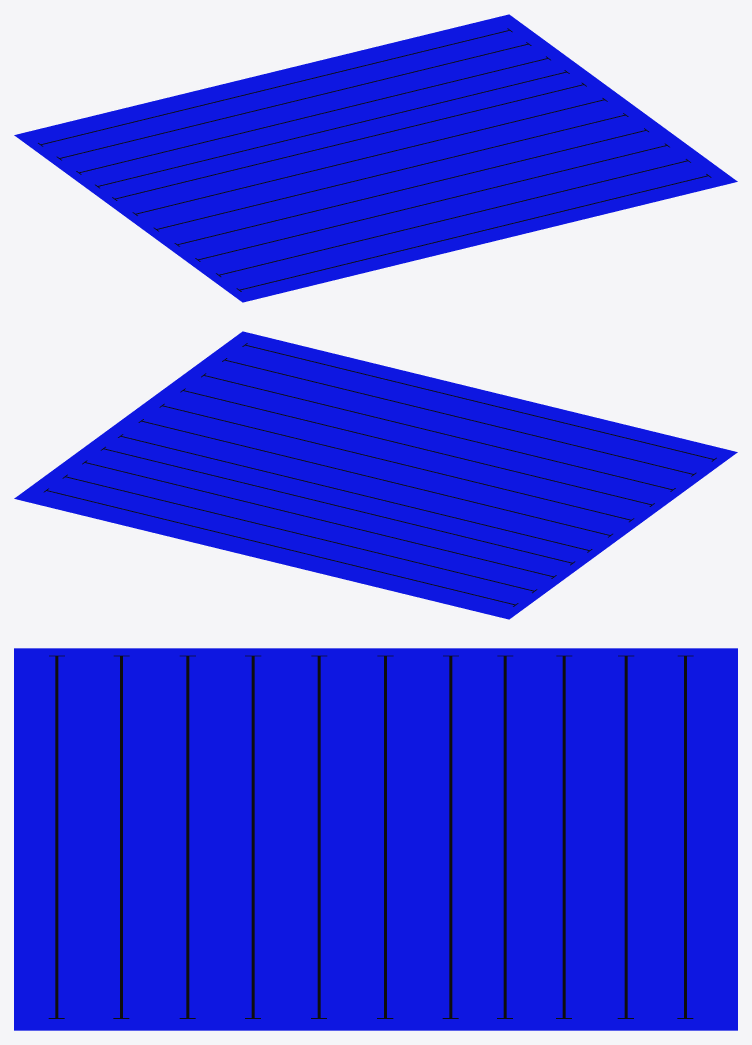
The model's file is water bottom3.fbx.
The picture shows the model from 3 angles, top to bottom: view 1: azimuth 30°, elevation 25°; view 2: azimuth 150°, elevation 25°; view 3: azimuth 270°, elevation 25°; orthographic projection. The views are drawn at different scales.
Visible parts, largest first — view 1: Plane.001; view 2: Plane.001; view 3: Plane.001.
Part boxes in pixels (x1,y1,x2,y2): Plane.001: (14, 14, 737, 302); Plane.001: (14, 331, 737, 619); Plane.001: (14, 648, 737, 1030).
Bounding box in the file's own units: 10000 × 1.43 × 8000.
